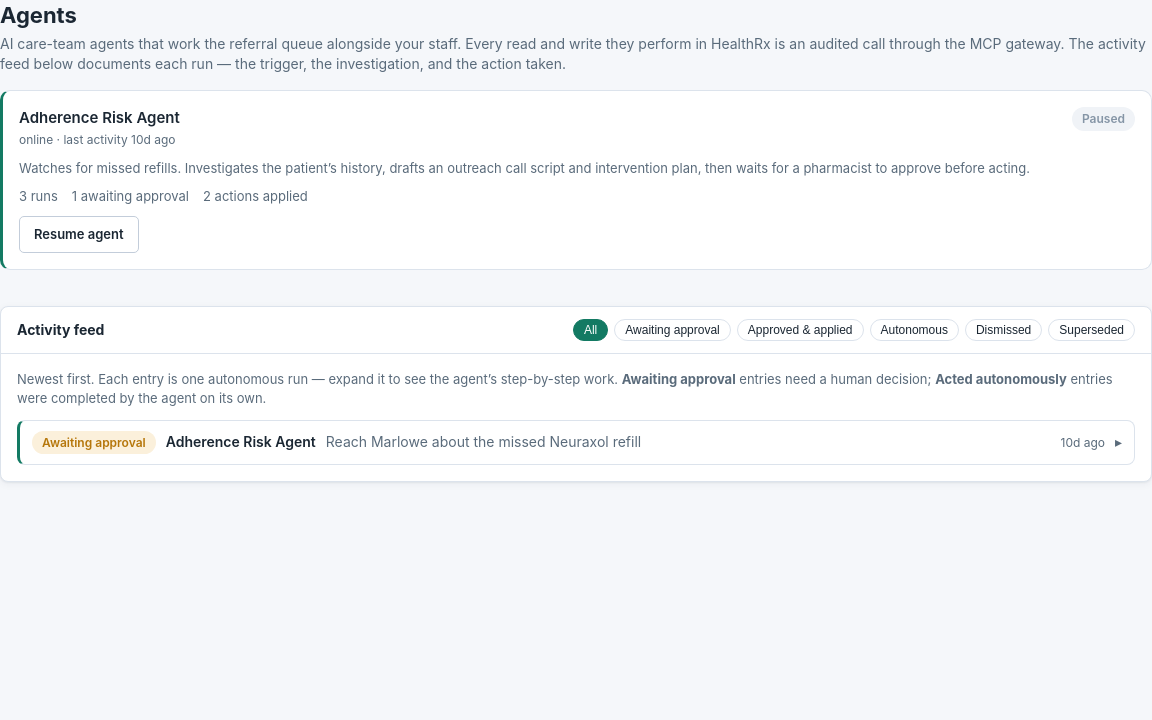
AgentsPage › expands a pending recommendation to show the trace and approve action
Click the text "Reach Marlowe about the missed Neuraxol refill" at (484, 442), box [326,433,641,450]
(page scrolled)
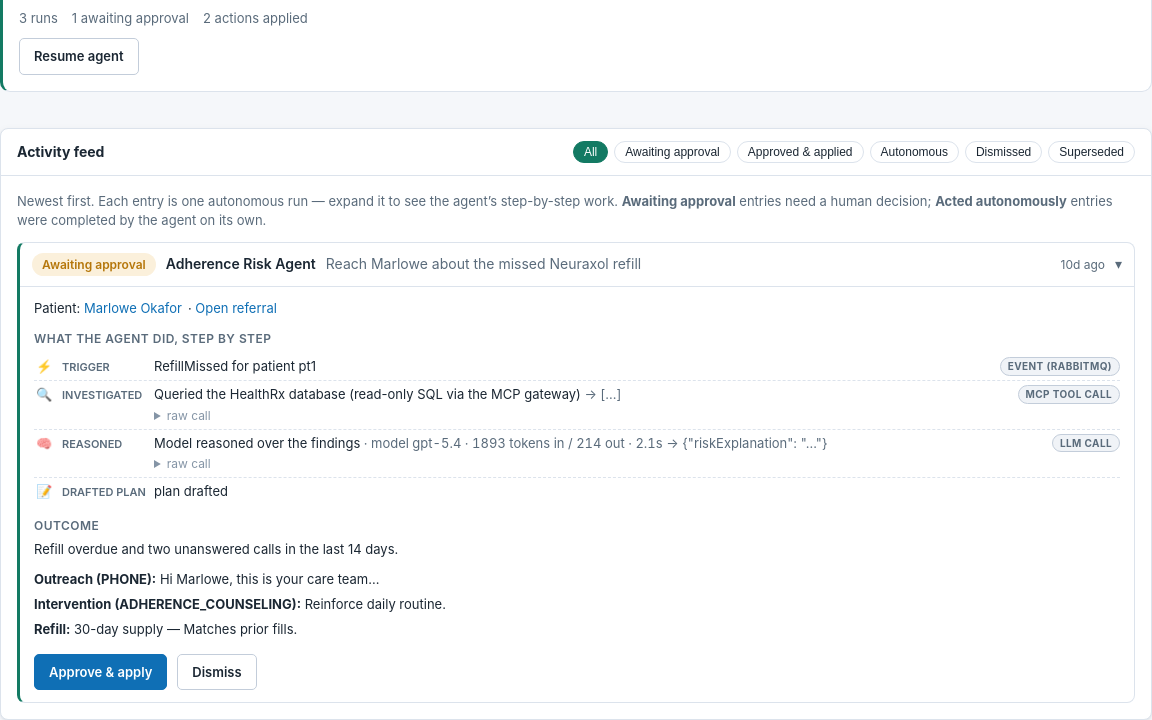
Expected: the text "What the agent did, step by step" is shown, [34,331,272,346]
Expected: the text "Queried the HealthRx database" is shown, [154,386,581,402]
Expected: the text "LLM call" is shown, [1052,434,1120,452]
